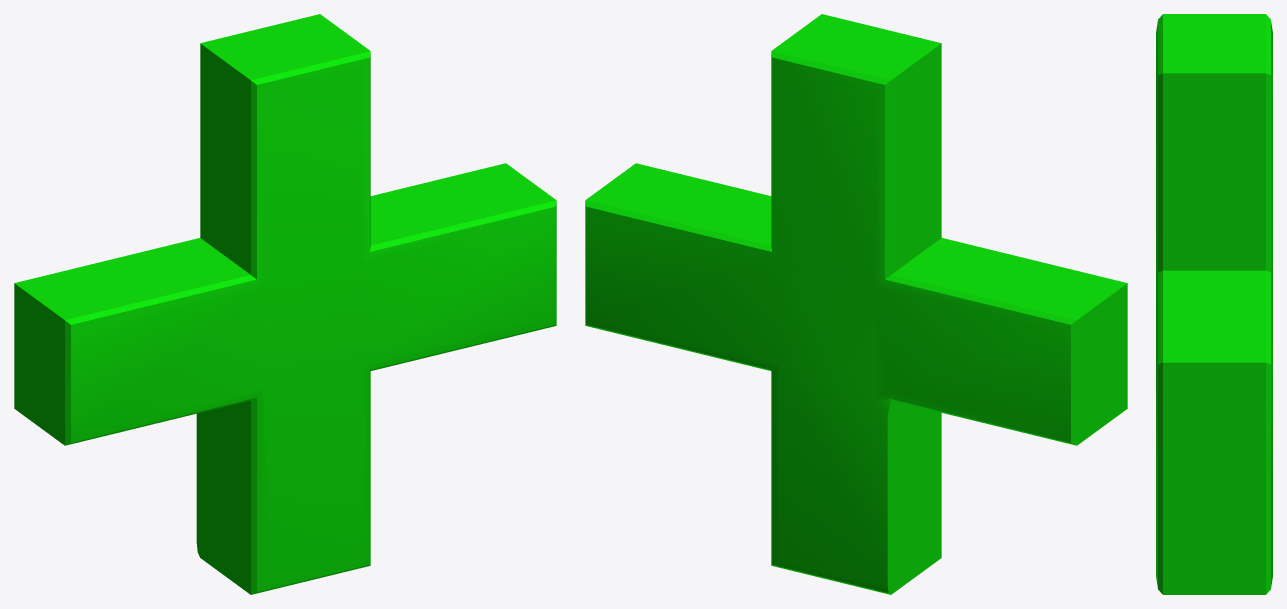
Rendered from HealthPowerup.fbx.
3 views of the same model, side by side, from view 1: azimuth 30°, elevation 25°; view 2: azimuth 150°, elevation 25°; view 3: azimuth 270°, elevation 25° (orthographic).
Parts seen in each view (by area): view 1: Cube; view 2: Cube; view 3: Cube.
Boxes of the visible parts, x1,y1,x2,y2 form: Cube: [14, 14, 556, 594]; Cube: [585, 14, 1127, 594]; Cube: [1156, 14, 1272, 594].
Size of the model in its own units: 0.7864 by 0.1598 by 0.7864.
